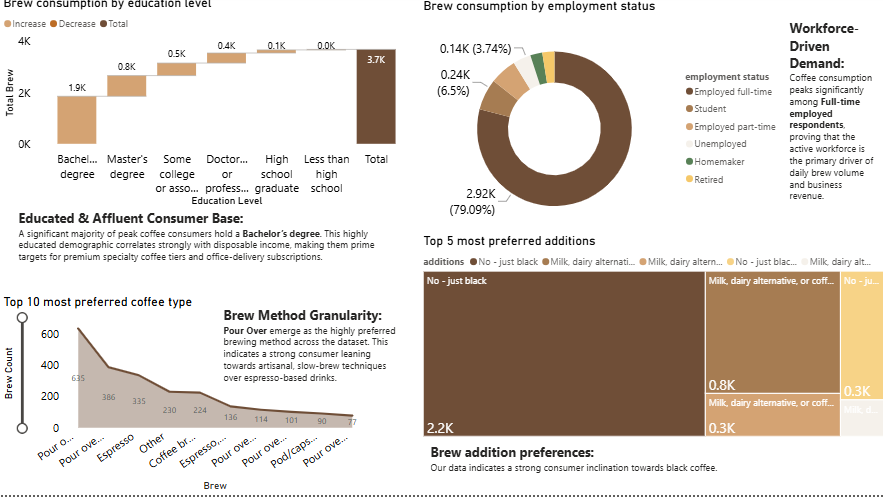

The page's visual inventory and layout, read from the dashboard file:
{"tool":"powerbi","page":{"name":"Page 2","canvas":[1280,720],"ordinal":1},"visuals":[{"type":"waterfallChart","title":"Brew consumption by education level","fields":{"Category":["Coffee_Data.education_level"],"Y":["CountNonNull(Coffee_Data.brew)"]},"box":[0,0,604.8,309.6],"z":0},{"type":"textbox","box":[21.6,303.8,542.9,103.7],"z":1000},{"type":"textbox","box":[0,460.8,368.6,74.9],"z":2000},{"type":"donutChart","title":"Brew consumption by employment status","fields":{"Category":["Coffee_Data.employment_status"],"Y":["CountNonNull(Coffee_Data.brew)"]},"box":[604.8,4.3,527,355.7],"z":3000},{"type":"stackedAreaChart","title":"Top 10 most preferred coffee type","fields":{"Category":["Coffee_Data.brew"],"Y":["CountNonNull(Coffee_Data.brew)"]},"box":[0,430.6,529.9,289.4],"z":4000},{"type":"textbox","box":[1131.8,30.2,131,279.4],"z":5000},{"type":"textbox","box":[316.8,443.5,267.8,132.5],"z":6000},{"type":"treemap","title":"Top 5 most preferred additions","fields":{"Group":["Coffee_Data.additions"],"Values":["CountNonNull(Coffee_Data.additions)"]},"box":[604.8,342.7,675.4,298.1],"z":7000},{"type":"textbox","box":[614.9,640.8,665.3,61.9],"z":8000}]}

Visuals, with their boxes in screenshot pixels (x1, y1, x2, y2), scaled from the page's 1280x720 canvas onto the 883x498 screenshot:
"Brew consumption by education level" waterfallChart: locate(0, 0, 417, 214)
textbox: locate(15, 210, 389, 282)
textbox: locate(0, 319, 254, 371)
"Brew consumption by employment status" donutChart: locate(417, 3, 781, 249)
"Top 10 most preferred coffee type" stackedAreaChart: locate(0, 298, 366, 497)
textbox: locate(781, 21, 871, 214)
textbox: locate(219, 307, 403, 398)
"Top 5 most preferred additions" treemap: locate(417, 237, 882, 443)
textbox: locate(424, 443, 882, 486)
